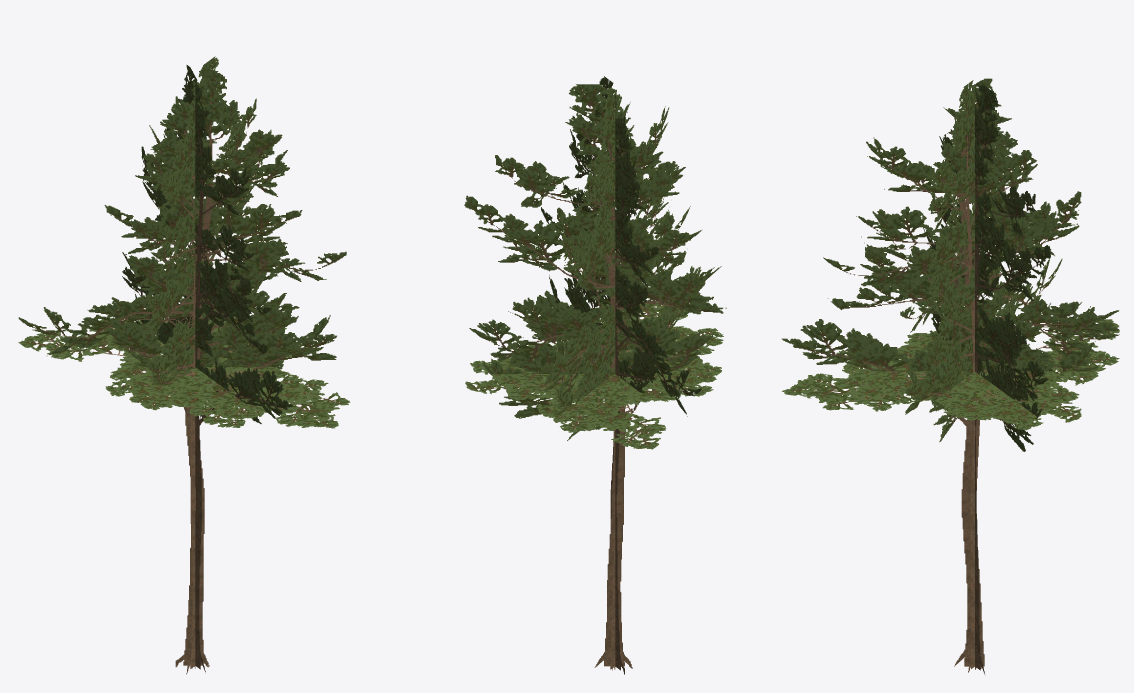
The picture shows the model from 3 angles, left to right: view 1: azimuth 30°, elevation 25°; view 2: azimuth 150°, elevation 25°; view 3: azimuth 270°, elevation 25°; orthographic projection. The views are drawn at different scales.
Visible parts, largest first — view 1: Pine_large_3_Billboard_LOD3_Pine_large_3_Billboard_Mat_0; view 2: Pine_large_3_Billboard_LOD3_Pine_large_3_Billboard_Mat_0; view 3: Pine_large_3_Billboard_LOD3_Pine_large_3_Billboard_Mat_0.
Part boxes in pixels (x1,y1,x2,y2): Pine_large_3_Billboard_LOD3_Pine_large_3_Billboard_Mat_0: [18, 56, 350, 674]; Pine_large_3_Billboard_LOD3_Pine_large_3_Billboard_Mat_0: [464, 76, 726, 674]; Pine_large_3_Billboard_LOD3_Pine_large_3_Billboard_Mat_0: [782, 78, 1119, 675].
Bounding box in the file's own units: 13.4 × 29.78 × 15.44.
